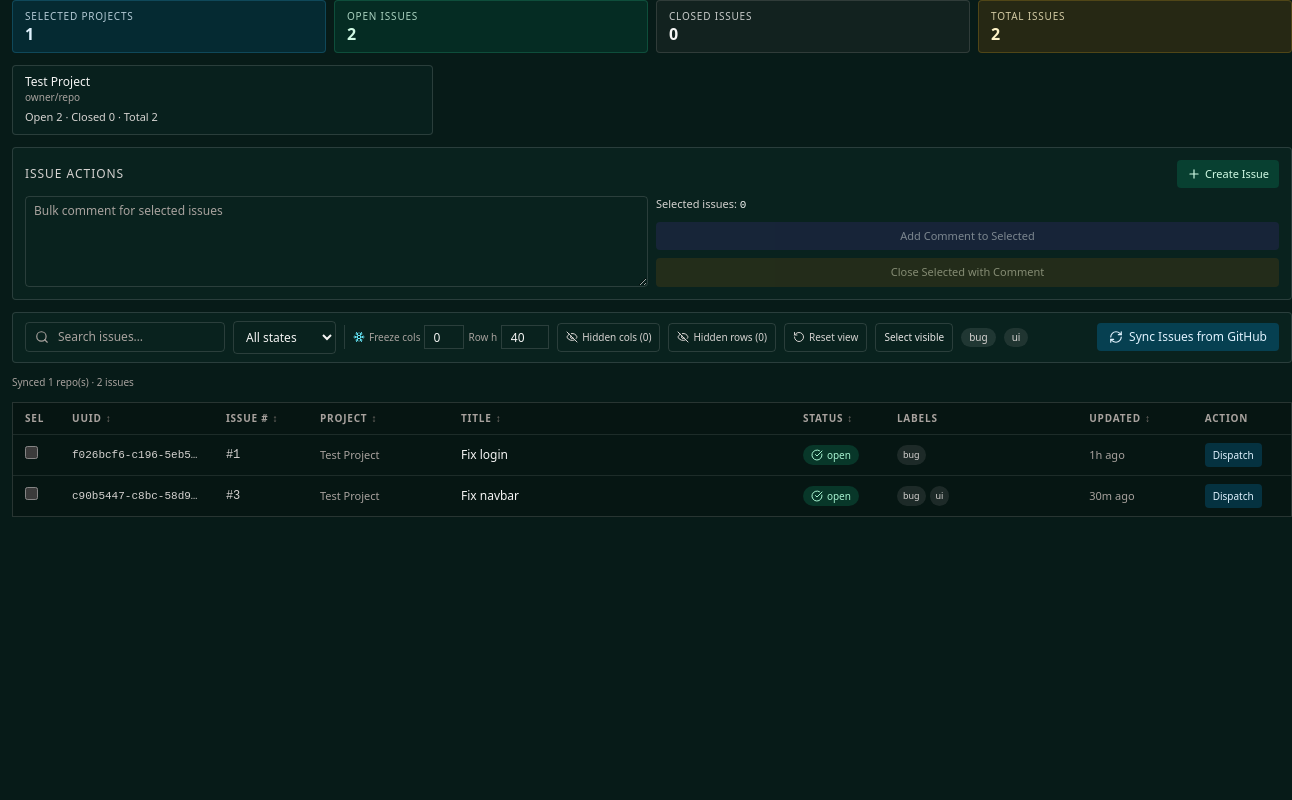
Scenario: IssuesTab › bulk comment applies to selected visible issues
The image size is (1292, 800).
Expected: the text "#1" is shown, [226,448,240,462]
Click the button "Select visible" at (914, 337), box [875,322,953,352]
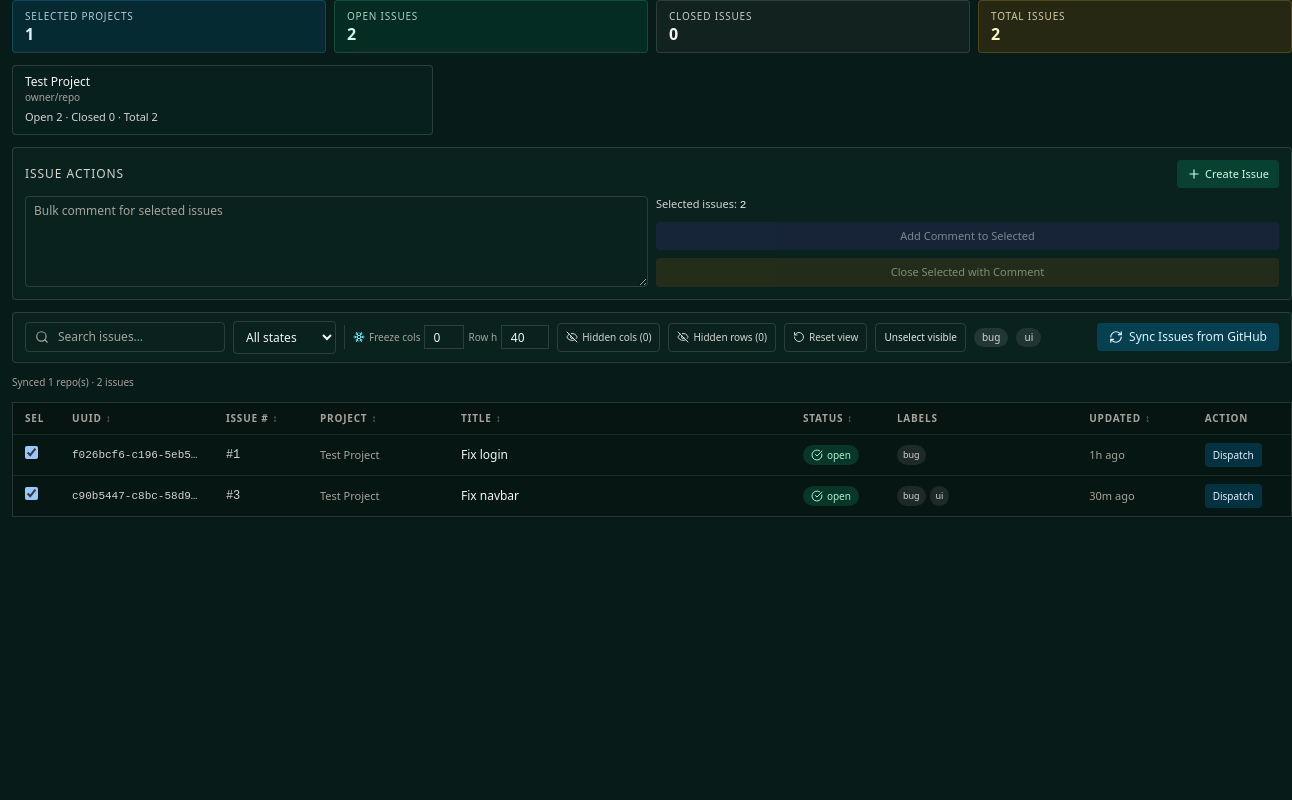
Type "batch review note" into the text box with placeholder "Bulk comment for selected issues" at (336, 241), box [25,196,648,286]
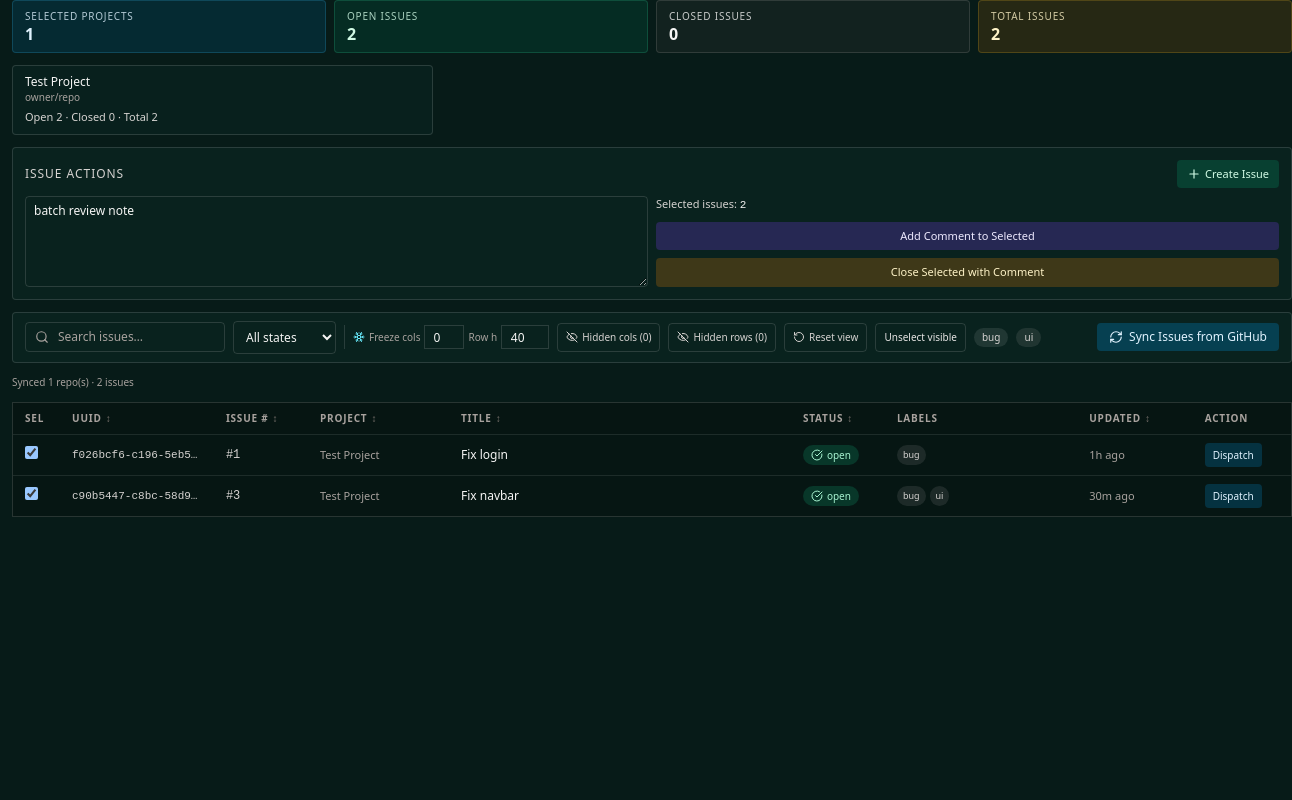
Expected: the text "Selected issues: 2" is shown, [656,196,746,211]
Click the button "Add Comment to Selected" at (968, 236), box [656,222,1279,250]
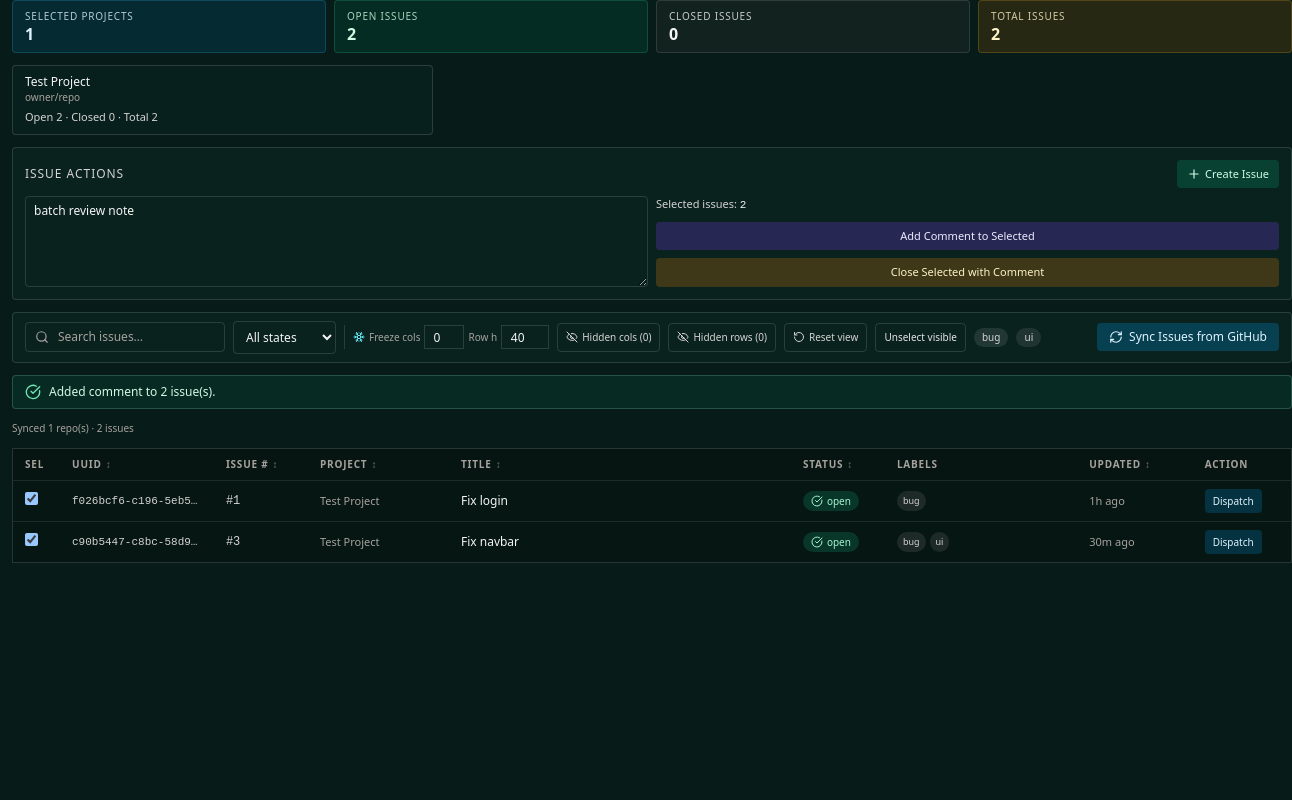
Expected: the text "Added comment to 2 issue(s)." is shown, [49,384,215,400]
